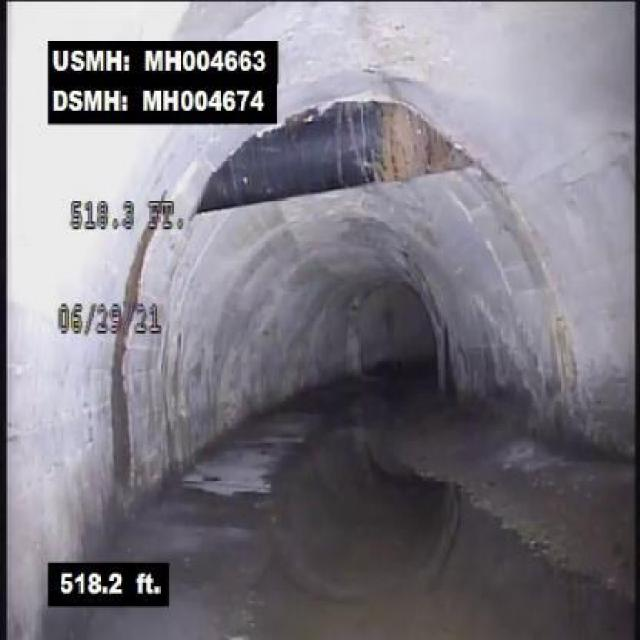Utility intrusion: (189, 95, 523, 214)
